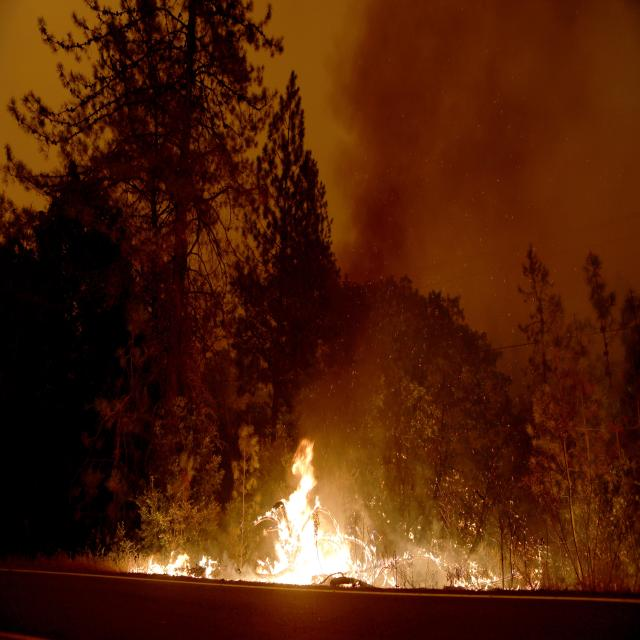Fire: (140, 423, 527, 594)
